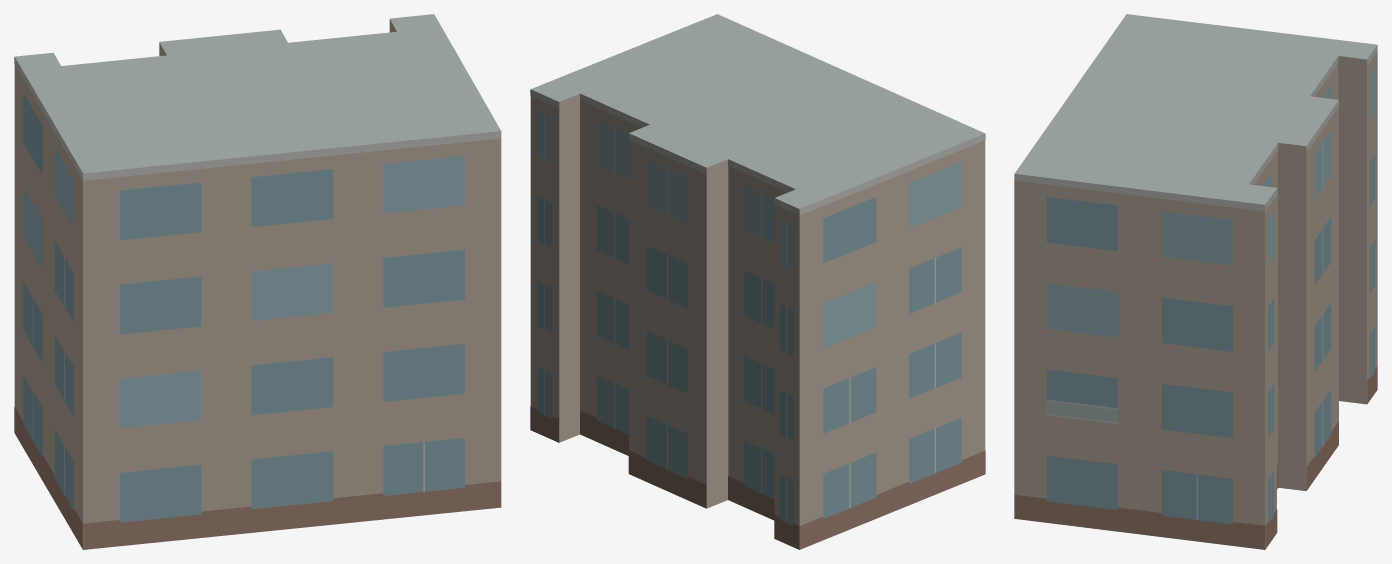
File: survey-upis-32990783.glb
3 renders of one model, left to right at view 1: azimuth 30°, elevation 25°; view 2: azimuth 150°, elevation 25°; view 3: azimuth 270°, elevation 25°, orthographic. The views are drawn at different scales.
Parts seen in each view (by area): view 1: survey-upis-32990783.tmp; view 2: survey-upis-32990783.tmp; view 3: survey-upis-32990783.tmp.
Boxes of the visible parts, x1,y1,x2,y2 form: survey-upis-32990783.tmp: (14,14,501,549); survey-upis-32990783.tmp: (530,14,985,549); survey-upis-32990783.tmp: (1014,14,1377,549).
Bounding box in the file's own units: 14.84 × 12.5 × 11.93.
